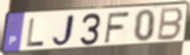0: (131, 9, 157, 44)
3: (78, 12, 103, 47)
B: (155, 6, 185, 42)
F: (103, 11, 131, 45)
J: (50, 13, 77, 48)
L: (25, 17, 46, 48)
